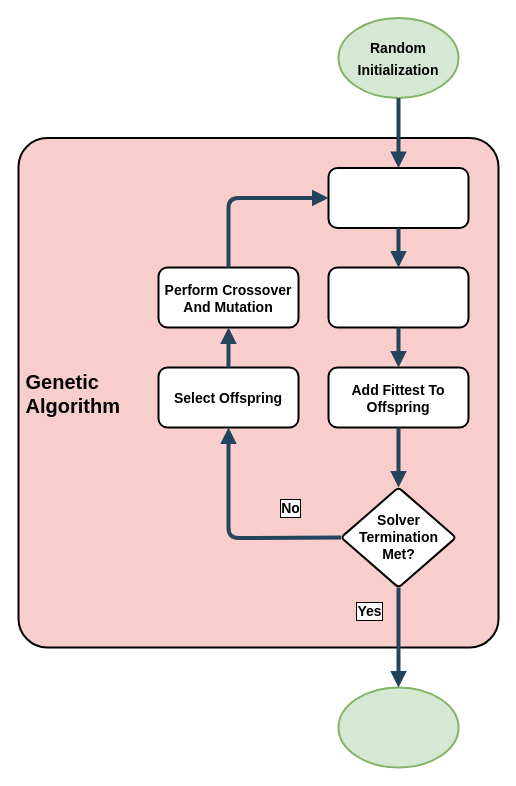
The diagram is 516 pixels wide and 786 high, and some of its shapes have lost their labels. Here are the shapes that lost their labels. From the top down, the box of each, then its label:
(327, 166, 469, 228): Generate Population
(327, 266, 469, 328): Compute Fitness
(337, 686, 459, 768): Optimal Solution
